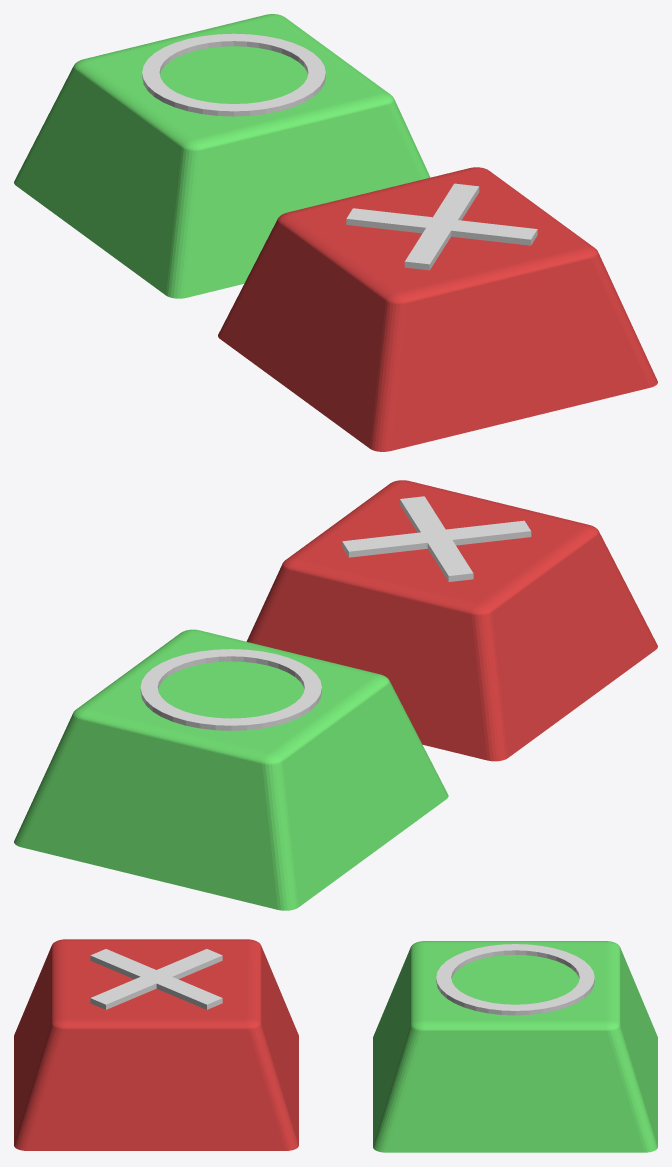
The model's file is Button Models.fbx.
3 renders of one model, top to bottom at view 1: azimuth 30°, elevation 25°; view 2: azimuth 150°, elevation 25°; view 3: azimuth 270°, elevation 25°, orthographic. The views are drawn at different scales.
Visible parts, largest first — view 1: Cube.002, Cube, Circle, Cube.001; view 2: Cube, Cube.002, Circle, Cube.001; view 3: Cube, Cube.002, Circle, Cube.001.
Boxes of the visible parts, x1,y1,x2,y2 form: Cube.002: (218,167,657,451); Cube: (14,14,430,298); Circle: (142,33,325,116); Cube.001: (346,183,537,270); Cube: (14,629,448,910); Cube.002: (246,480,657,761); Circle: (140,649,321,730); Cube.001: (342,496,531,581); Cube: (373,941,657,1152); Cube.002: (14,939,298,1150); Circle: (436,944,594,1015); Cube.001: (90,949,222,1009).
Size of the model in its own units: 203 by 89.57 by 452.
